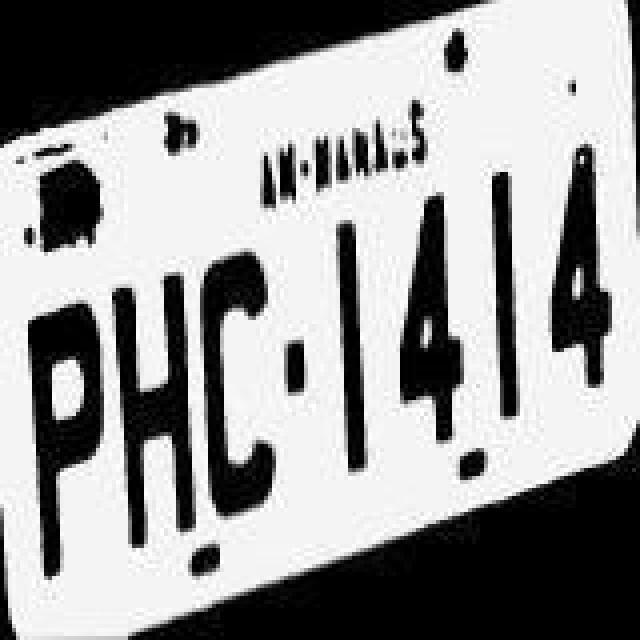1: (484, 144, 532, 428), (330, 220, 374, 504)
4: (396, 180, 468, 456), (546, 136, 614, 416)
C: (202, 236, 278, 520)
H: (110, 268, 194, 548)
P: (24, 294, 104, 570)
